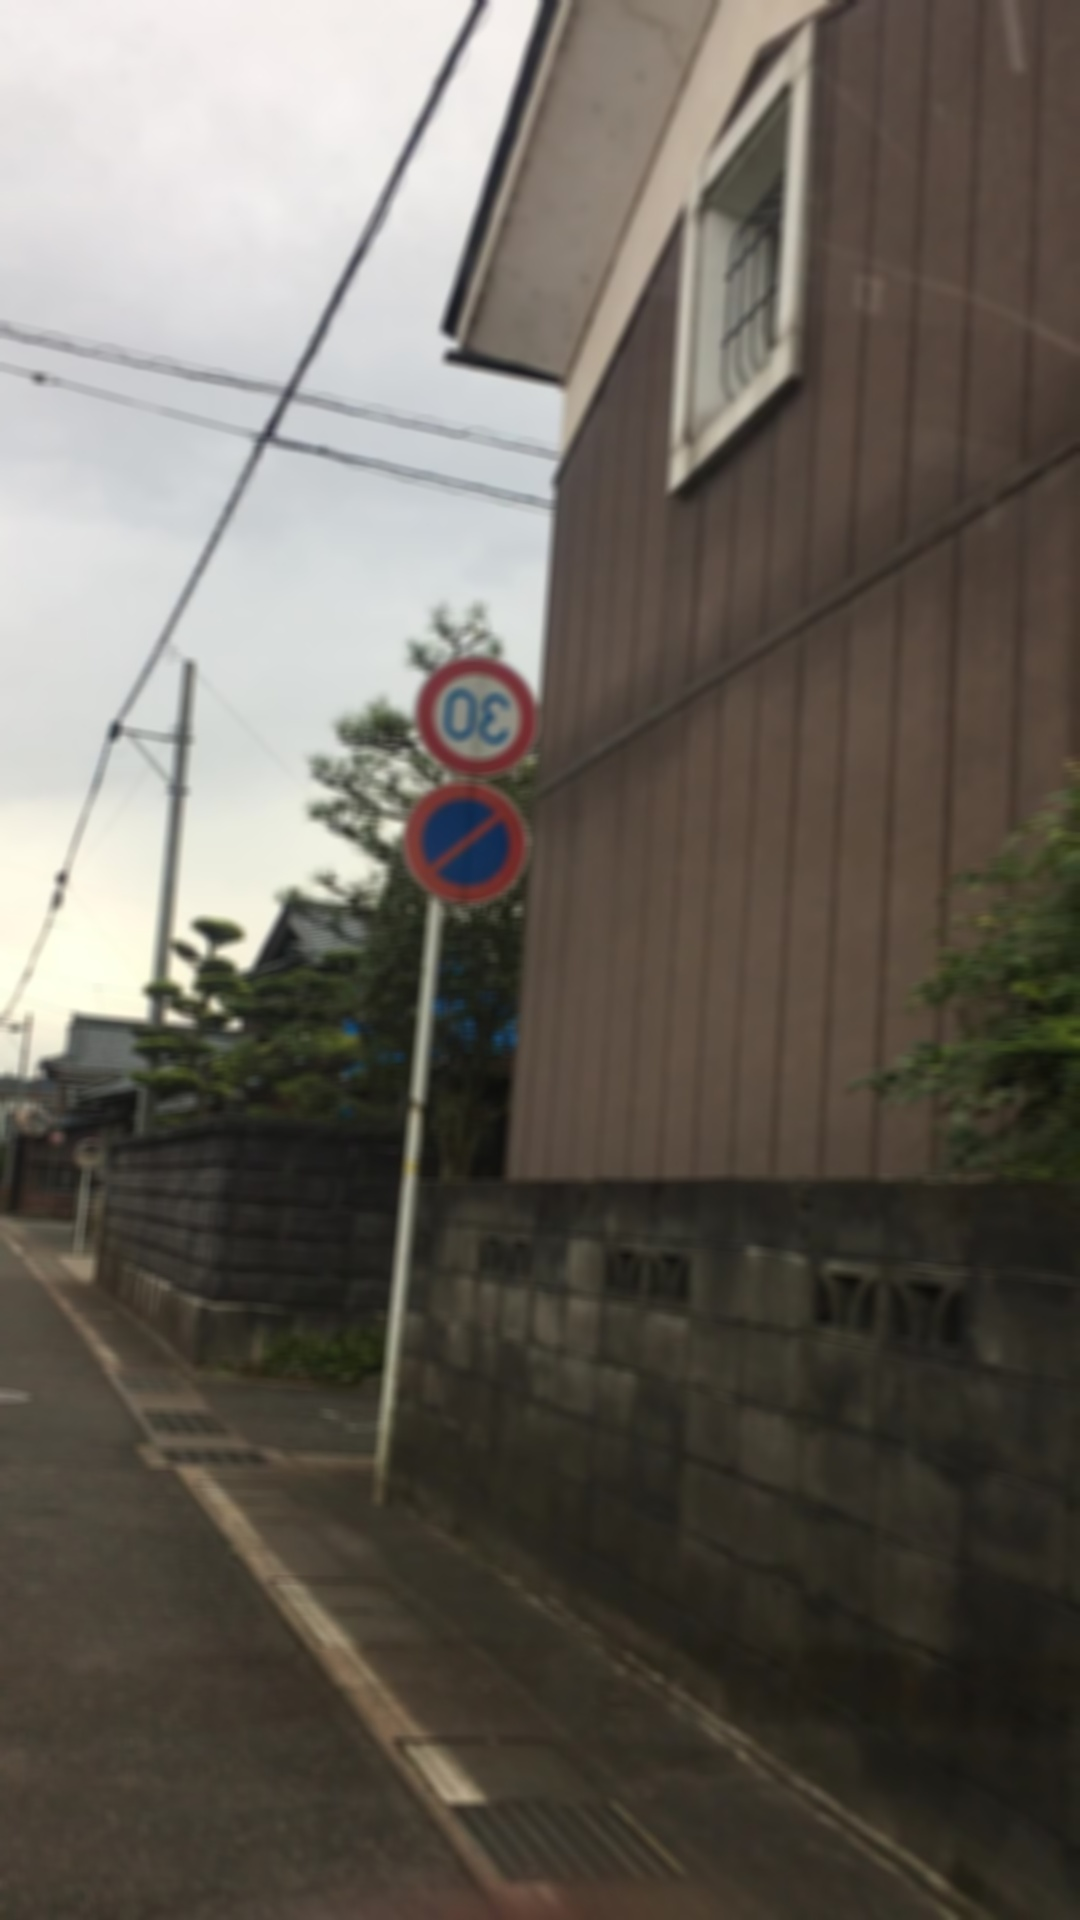Prohibition_sign: (386, 774, 534, 926)
Speed_sign: (414, 655, 545, 790)
